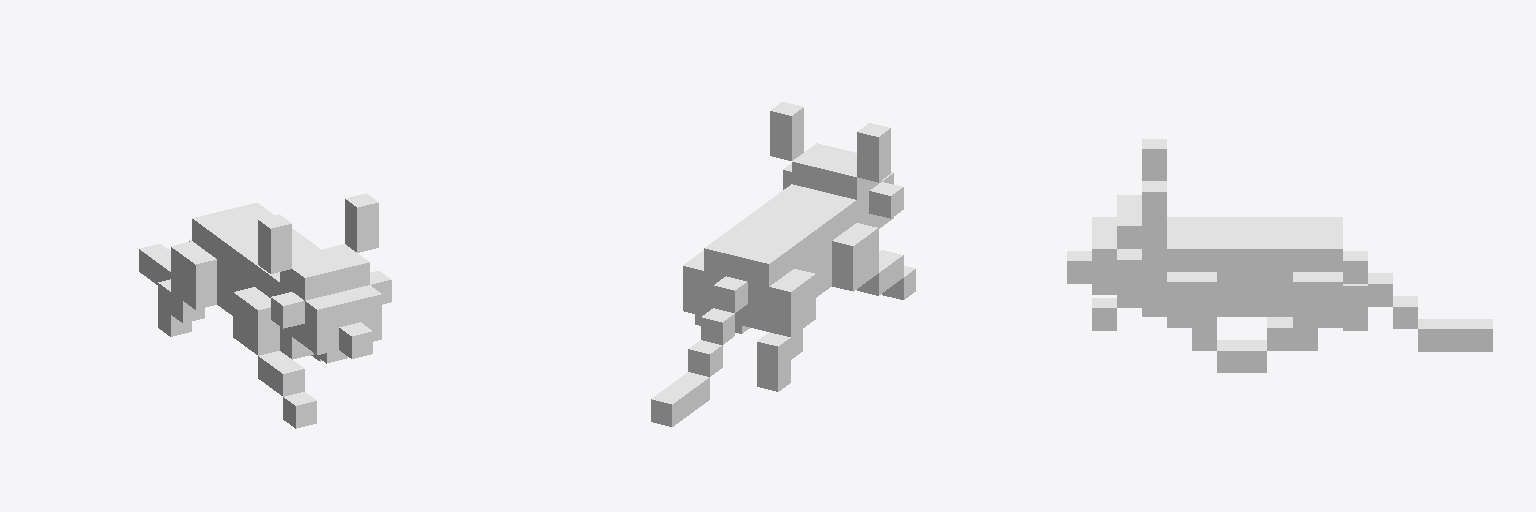
File: rat_walk_0.obj
3 renders of one model, left to right at view 1: azimuth 30°, elevation 25°; view 2: azimuth 150°, elevation 25°; view 3: azimuth 270°, elevation 25°, orthographic.
Parts seen in each view (by area): view 1: object 1; view 2: object 1; view 3: object 1.
Boxes of the visible parts, box(x1,y1,x2,y2) form: object 1: box(139, 193, 391, 428); object 1: box(651, 102, 915, 426); object 1: box(1067, 139, 1492, 372).
Size of the model in its own units: 0.5 by 0.8 by 1.7.